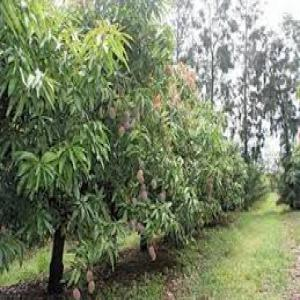Tree: (4, 6, 198, 292)
